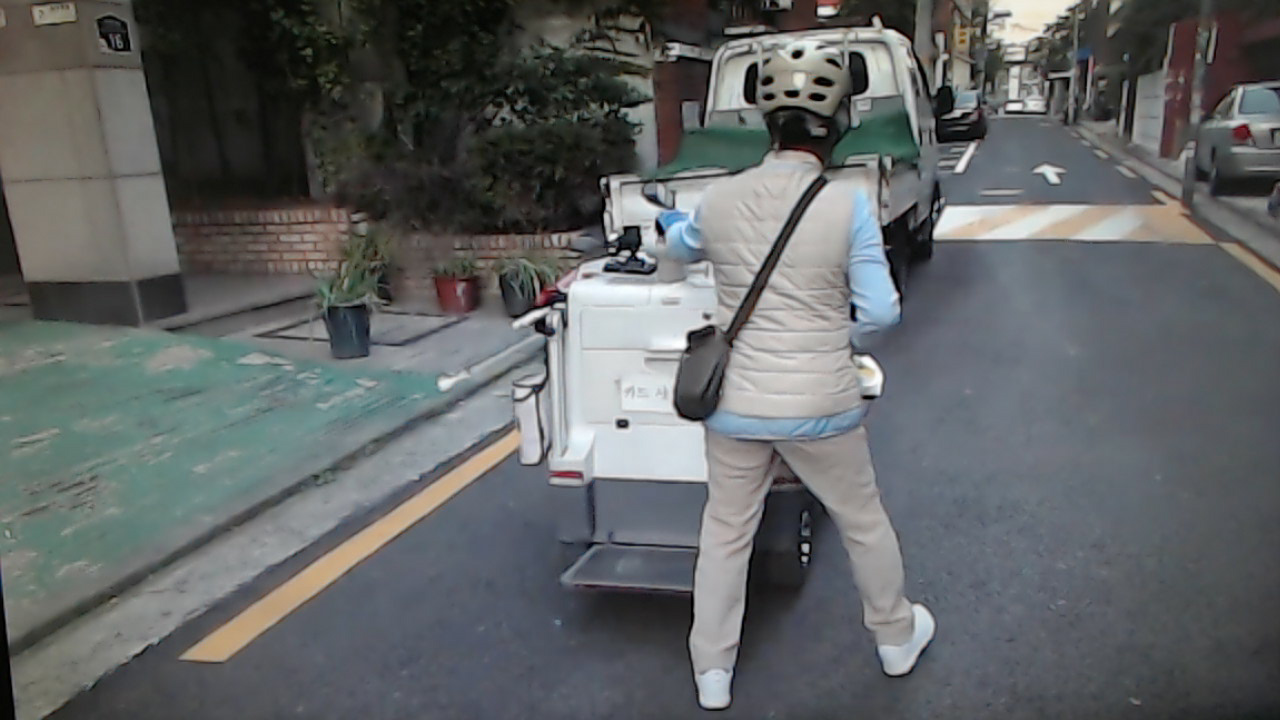Yakurut: (656, 35, 947, 720)
